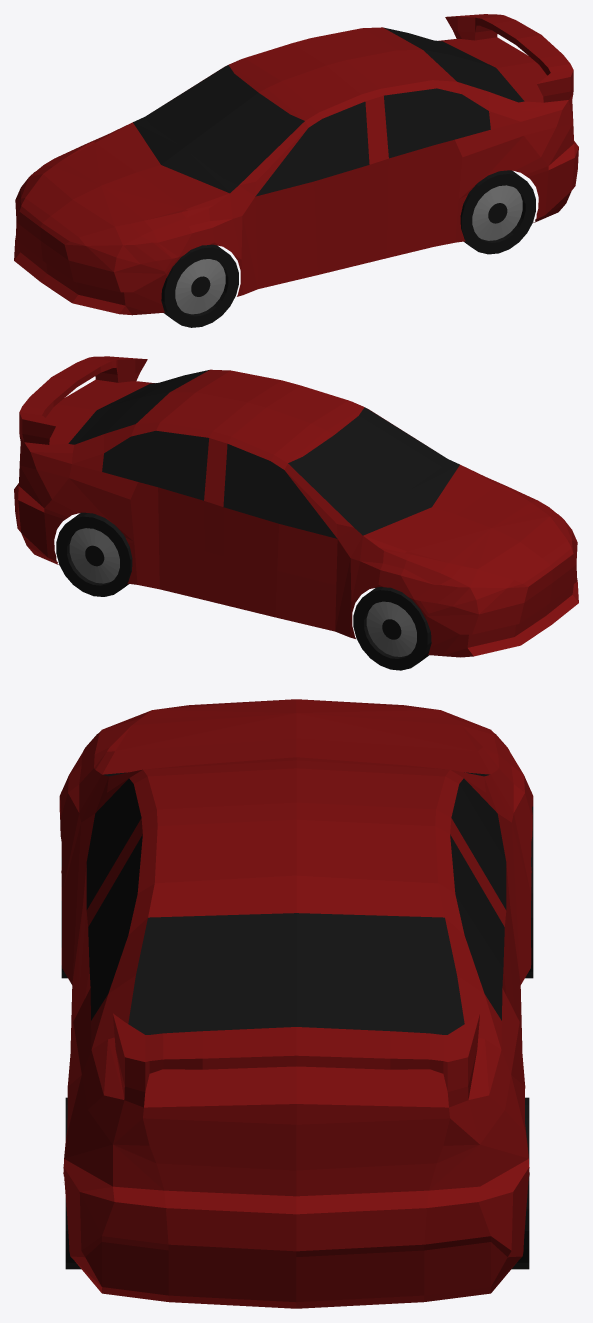
The model's file is bolid_lancer.fbx.
3 renders of one model, top to bottom at view 1: azimuth 30°, elevation 25°; view 2: azimuth 150°, elevation 25°; view 3: azimuth 270°, elevation 25°, orthographic. The views are drawn at different scales.
Parts seen in each view (by area): view 1: bolid, wheel.016, wheel.017; view 2: bolid, wheel, wheel.015; view 3: bolid, wheel.015.
Boxes of the visible parts, box(x1,y1,x2,y2) form: bolid: box(14, 14, 578, 315); wheel.016: box(161, 244, 238, 327); wheel.017: box(460, 170, 535, 254); bolid: box(14, 356, 578, 657); wheel: box(353, 587, 431, 670); wheel.015: box(56, 512, 132, 596); bolid: box(59, 699, 533, 1308); wheel.015: box(512, 1097, 529, 1269).
Size of the model in its own units: 513 by 169 by 208.
